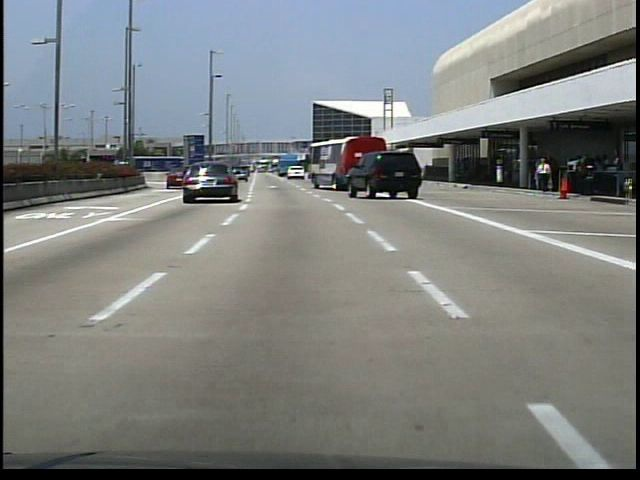person: (535, 157, 554, 196)
